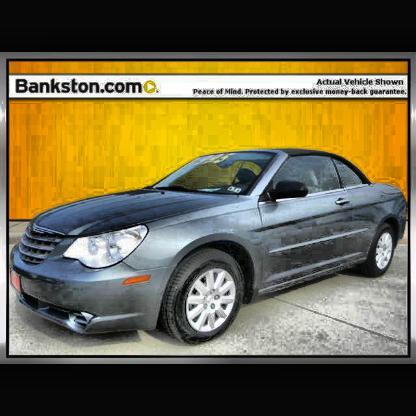Chrysler Sebring Convertible 2010: (11, 150, 408, 346)
